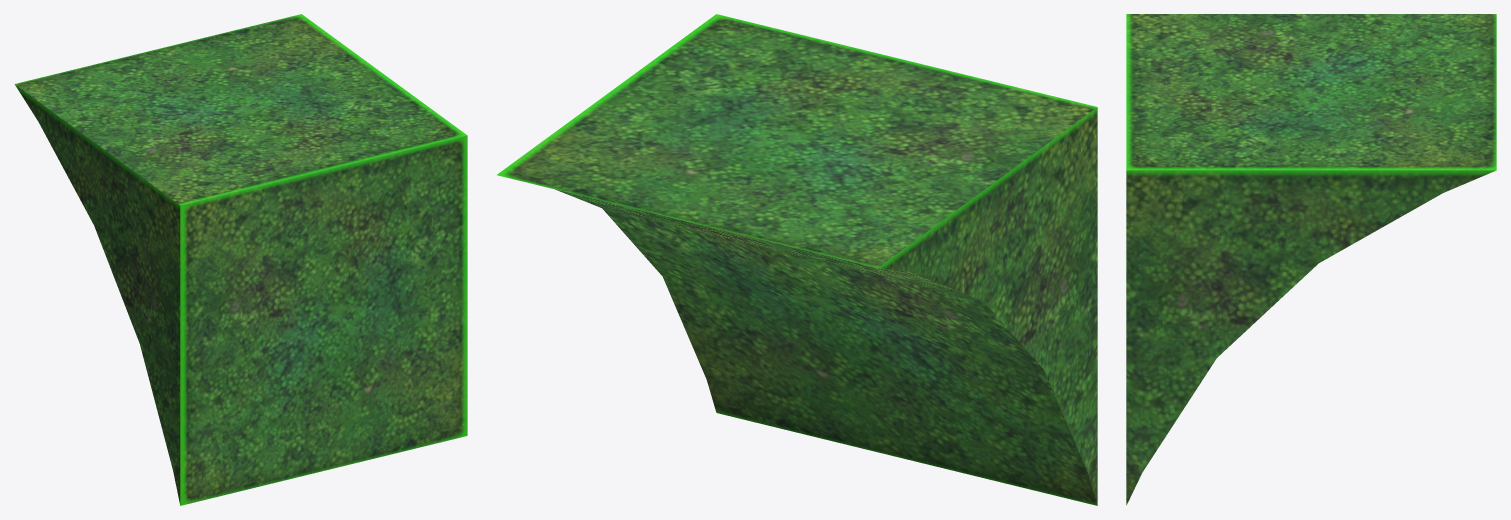
The model's file is POL0310004.fbx.
3 renders of one model, left to right at view 1: azimuth 30°, elevation 25°; view 2: azimuth 150°, elevation 25°; view 3: azimuth 270°, elevation 25°, orthographic. The views are drawn at different scales.
Visible parts, largest first — view 1: smPOL0310004; view 2: smPOL0310004; view 3: smPOL0310004.
Part boxes in pixels (x1=…): smPOL0310004: x1=14, y1=14, x2=467, y2=505; smPOL0310004: x1=497, y1=14, x2=1097, y2=505; smPOL0310004: x1=1126, y1=14, x2=1496, y2=505.
Size of the model in its own units: 161 by 161 by 161.
Materials: 1 (1 with a texture image).
